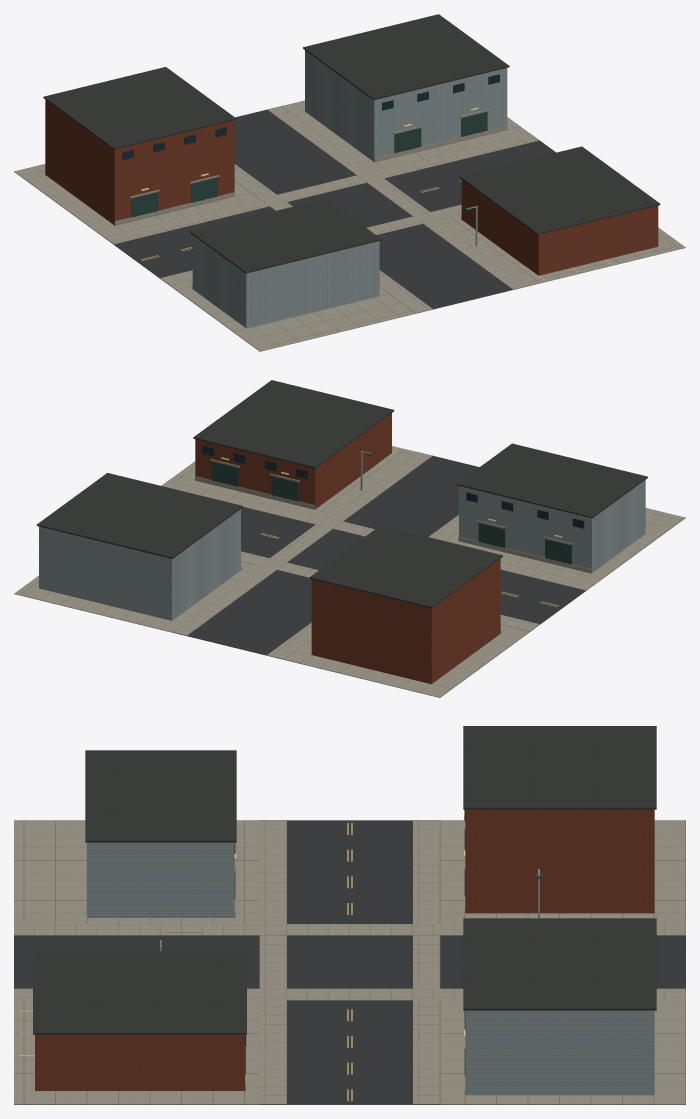
The model's file is industrial_1_1.glb.
The picture shows the model from 3 angles, top to bottom: view 1: azimuth 30°, elevation 25°; view 2: azimuth 150°, elevation 25°; view 3: azimuth 270°, elevation 25°; orthographic projection. The views are drawn at different scales.
Parts seen in each view (by area): view 1: Canal Warehouses / North south street, Canal Warehouses / Yard paving, Canal Warehouses / Building 0 shell, Canal Warehouses / Building 1 shell, Canal Warehouses / Building 2 shell, Canal Warehouses / Building 1 roof, Canal Warehouses / Building 3 roof, Canal Warehouses / Building 0 roof, Canal Warehouses / Building 3 shell, Canal Warehouses / Building 2 roof, Canal Warehouses / East west street, Canal Warehouses / Street walk X 1 (+9 smaller); view 2: Canal Warehouses / Building 0 shell, Canal Warehouses / North south street, Canal Warehouses / Building 1 shell, Canal Warehouses / Yard paving, Canal Warehouses / Building 1 roof, Canal Warehouses / Building 3 roof, Canal Warehouses / Building 0 roof, Canal Warehouses / Building 2 shell, Canal Warehouses / Building 2 roof, Canal Warehouses / Building 3 shell, Canal Warehouses / East west street, Canal Warehouses / Street walk X 1 (+9 smaller); view 3: Canal Warehouses / Yard paving, Canal Warehouses / East west street, Canal Warehouses / Building 0 shell, Canal Warehouses / Building 1 roof, Canal Warehouses / Building 3 roof, Canal Warehouses / Building 1 shell, Canal Warehouses / Building 0 roof, Canal Warehouses / North south street, Canal Warehouses / Building 2 roof, Canal Warehouses / Building 3 shell, Canal Warehouses / Building 2 shell, Canal Warehouses / Street walk Z -1 (+3 smaller).
Boxes of the visible parts, <box> form: Canal Warehouses / North south street: <box>234,109,512,308</box>; Canal Warehouses / Yard paving: <box>14,100,685,351</box>; Canal Warehouses / Building 0 shell: <box>45,100,234,225</box>; Canal Warehouses / Building 1 shell: <box>305,50,507,161</box>; Canal Warehouses / Building 2 shell: <box>192,235,379,328</box>; Canal Warehouses / Building 1 roof: <box>303,14,509,100</box>; Canal Warehouses / Building 3 roof: <box>459,146,660,234</box>; Canal Warehouses / Building 0 roof: <box>43,67,236,149</box>; Canal Warehouses / Building 3 shell: <box>461,179,658,275</box>; Canal Warehouses / Building 2 roof: <box>190,198,381,273</box>; Canal Warehouses / East west street: <box>114,140,555,277</box>; Canal Warehouses / Street walk X 1: <box>267,105,529,289</box>; Canal Warehouses / Building 0 shell: <box>311,558,500,683</box>; Canal Warehouses / North south street: <box>187,456,479,655</box>; Canal Warehouses / Building 1 shell: <box>39,509,240,620</box>; Canal Warehouses / Yard paving: <box>14,446,685,697</box>; Canal Warehouses / Building 1 roof: <box>36,473,243,558</box>; Canal Warehouses / Building 3 roof: <box>193,380,394,468</box>; Canal Warehouses / Building 0 roof: <box>309,525,502,608</box>; Canal Warehouses / Building 2 shell: <box>459,480,645,572</box>; Canal Warehouses / Building 2 roof: <box>456,443,647,518</box>; Canal Warehouses / Building 3 shell: <box>195,413,391,508</box>; Canal Warehouses / East west street: <box>241,507,585,623</box>; Canal Warehouses / Street walk X 1: <box>170,451,432,635</box>; Canal Warehouses / Yard paving: <box>14,820,685,1104</box>; Canal Warehouses / East west street: <box>287,820,412,1104</box>; Canal Warehouses / Building 0 shell: <box>465,809,654,913</box>; Canal Warehouses / Building 1 roof: <box>463,918,656,1010</box>; Canal Warehouses / Building 3 roof: <box>33,951,246,1034</box>; Canal Warehouses / Building 1 shell: <box>465,1010,654,1095</box>; Canal Warehouses / Building 0 roof: <box>463,726,656,809</box>; Canal Warehouses / North south street: <box>14,935,685,988</box>; Canal Warehouses / Building 2 roof: <box>85,750,236,842</box>; Canal Warehouses / Building 3 shell: <box>35,1034,244,1090</box>; Canal Warehouses / Building 2 shell: <box>87,842,234,917</box>; Canal Warehouses / Street walk Z -1: <box>413,820,440,1104</box>.
Bounding box in the file's own units: 64 × 11.26 × 64.
9 materials, 9 textured.
